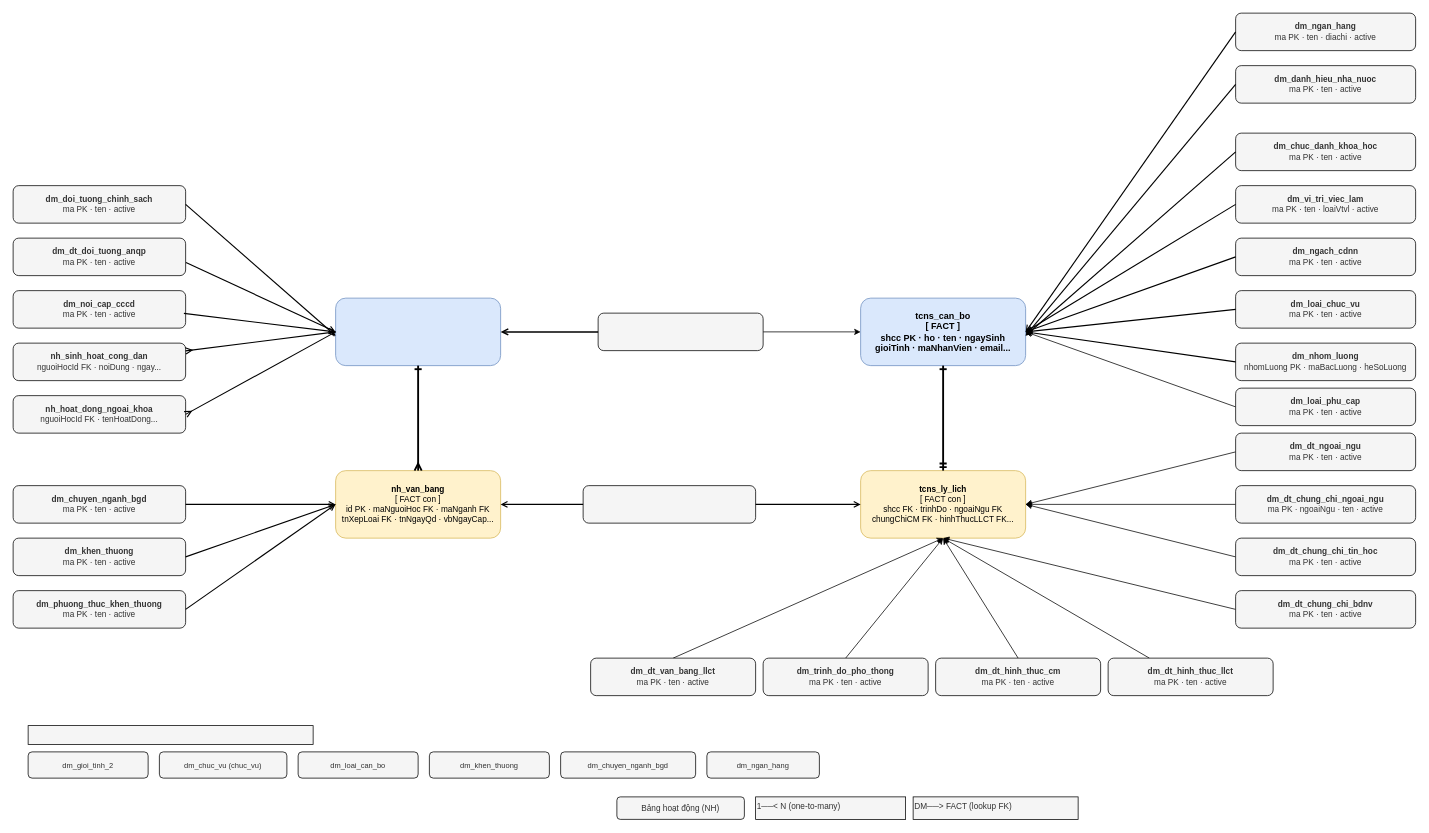
The diagram is 1429 pixels wide and 833 high, and some of its shapes have lost their labels. The shapes that lost their labels are listed below. From the top down, each one's centre as x and y in pixels, then its label:
At (x=418, y=331): "nguoi_hoc [ FACT ] id PK · ho · ten · ngaySinh gioiTinh · cccdSo · danToc...".
At (x=680, y=331): "dm_gioi_tinh id PK · ma · ten · active".
At (x=669, y=504): "dm_xep_loai_chuyen_mon ma PK · ten · active".
At (x=170, y=734): "Danh mục tham chiếu còn lại (chưa map FK):".
